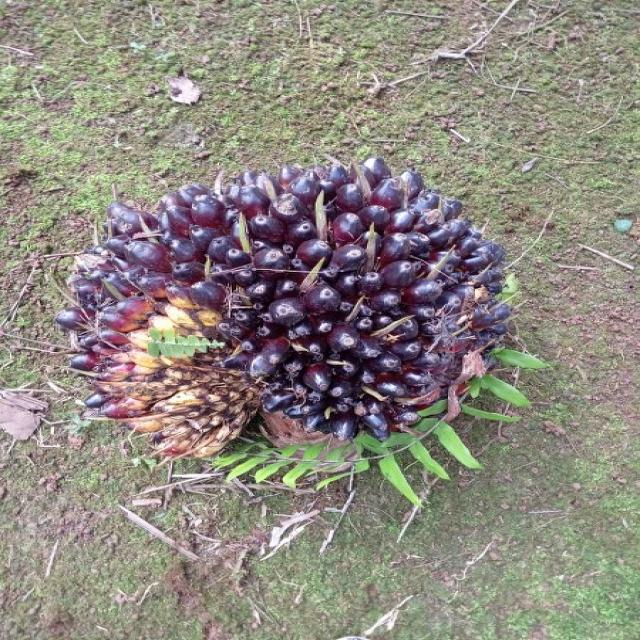fraksi 00: (16, 90, 607, 550)
